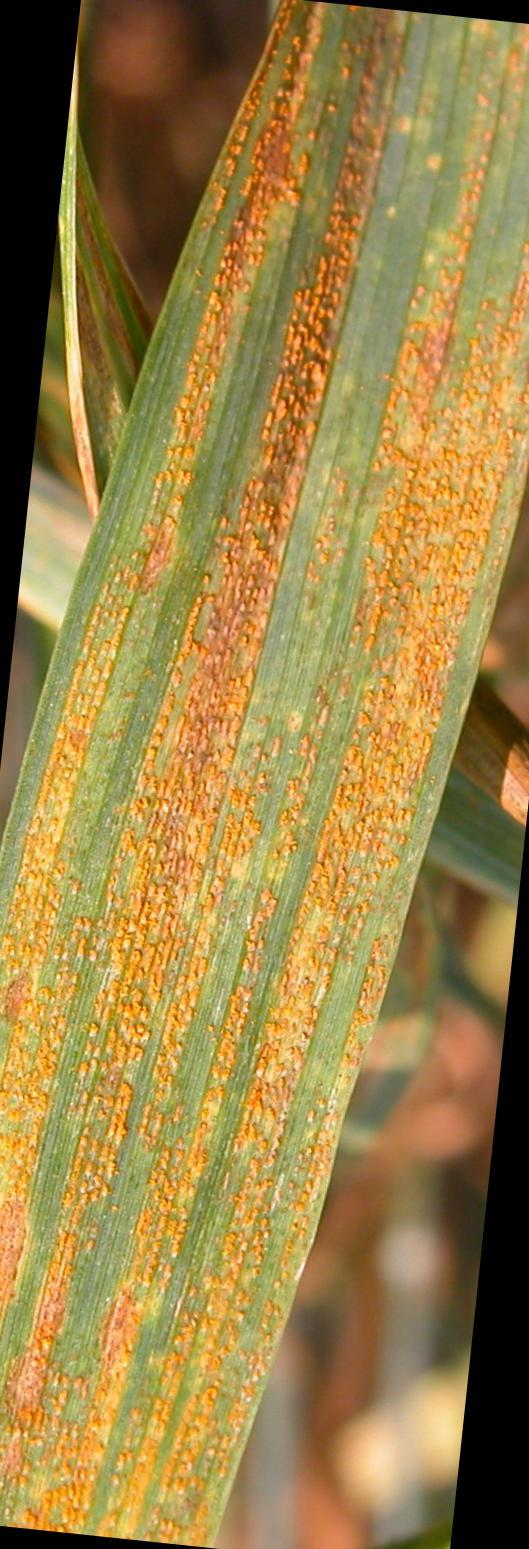Corn: (57, 43, 518, 874), (6, 773, 398, 1511)
